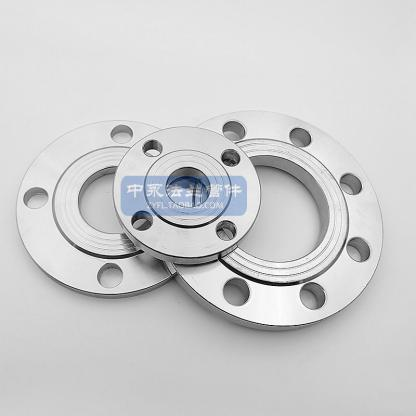FOD: (157, 106, 385, 334), (14, 117, 208, 302), (108, 123, 266, 268)
